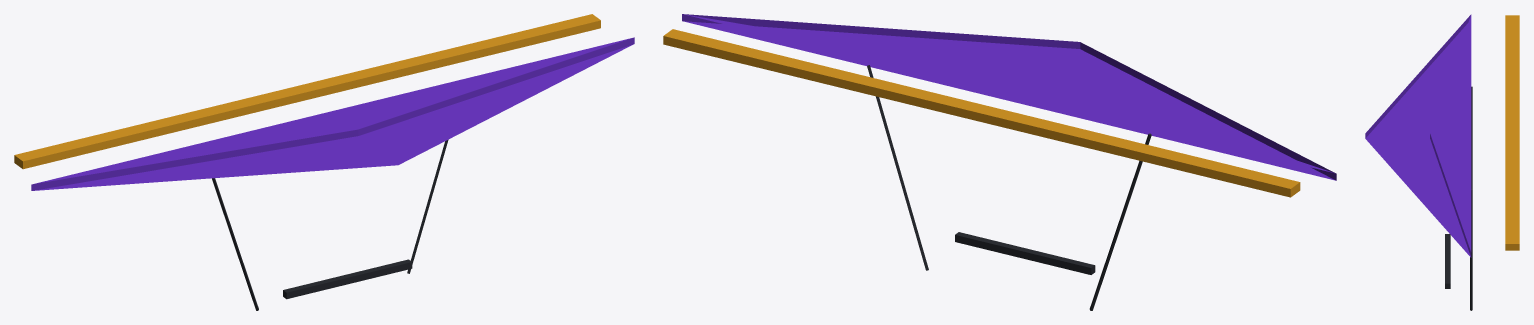
Rendered from personal_glider_wing.glb.
3 renders of one model, left to right at view 1: azimuth 30°, elevation 25°; view 2: azimuth 150°, elevation 25°; view 3: azimuth 270°, elevation 25°, orthographic. The views are drawn at different scales.
Visible parts, largest first — view 1: model; view 2: model; view 3: model.
Part boxes in pixels (x1,y1,x2,y2): model: [14, 14, 634, 310]; model: [663, 14, 1336, 310]; model: [1365, 14, 1519, 310].
Size of the model in its own units: 4.8 by 1.41 by 1.31.
